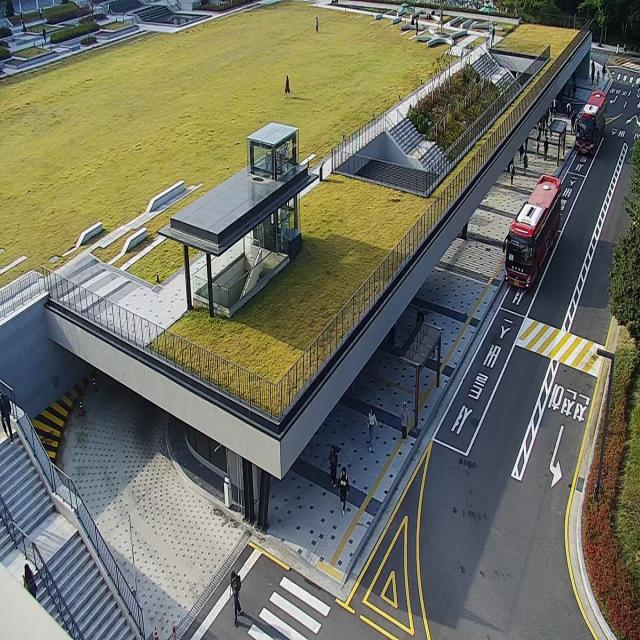queue: (416, 326, 442, 433)
